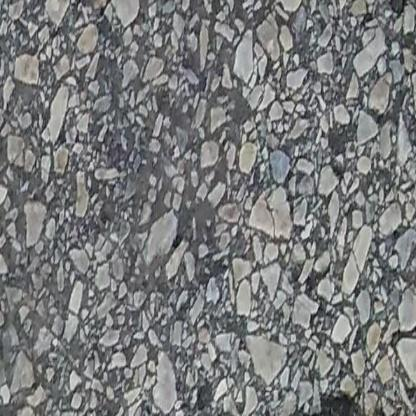Cracks: (204, 394, 407, 416)
